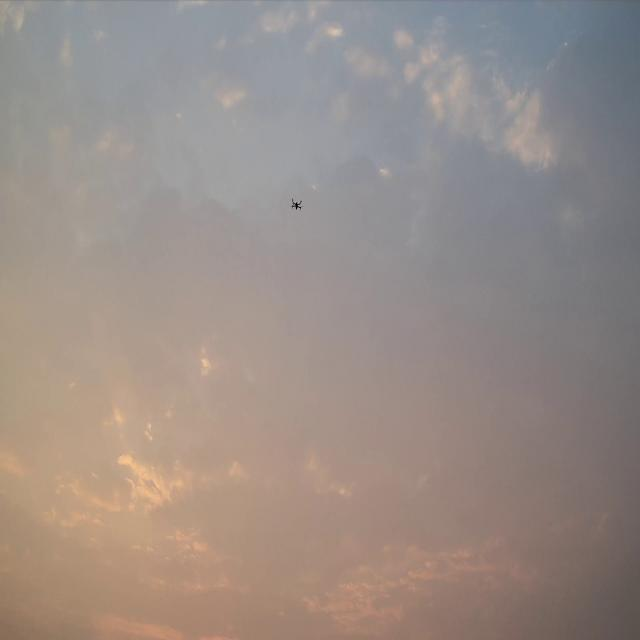UAV: (290, 197, 304, 212)
